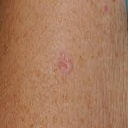Carcinoma: (51, 54, 80, 75)
